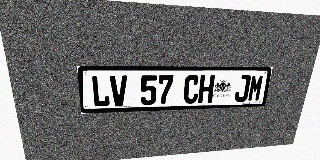5: (141, 75, 157, 105)
7: (157, 75, 174, 105)
C: (183, 75, 200, 104)
H: (198, 75, 215, 103)
J: (234, 75, 251, 102)
L: (91, 75, 110, 107)
M: (247, 75, 265, 102)
V: (110, 75, 128, 106)
